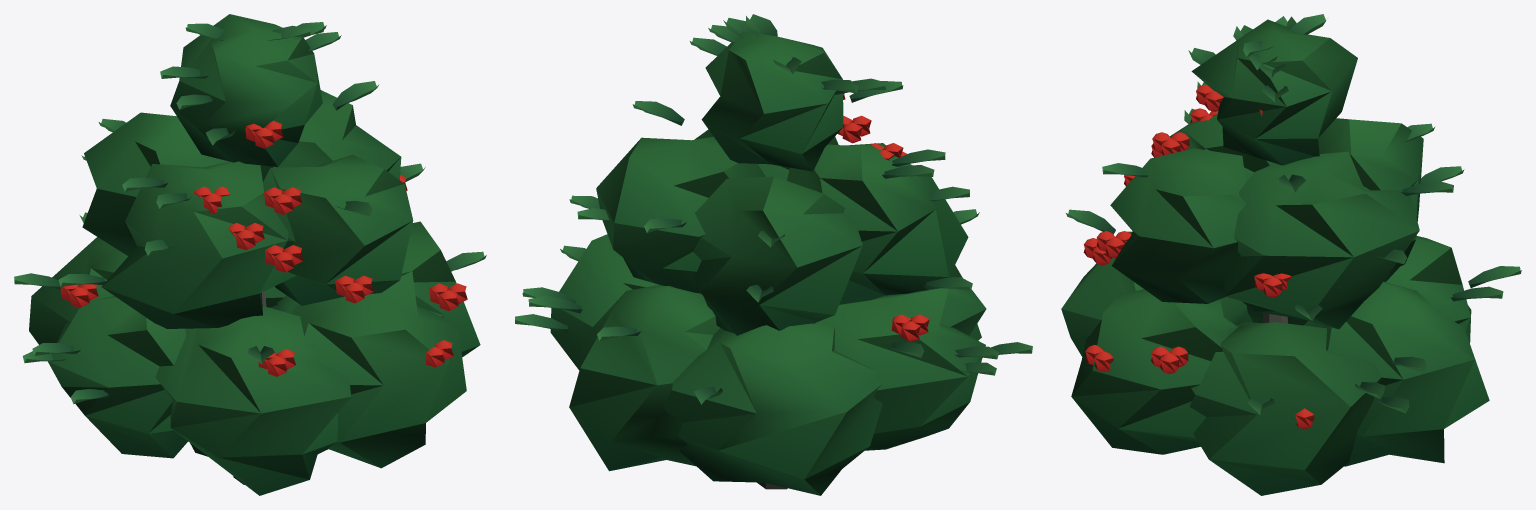
Rendered from holly.glb.
3 renders of one model, left to right at view 1: azimuth 30°, elevation 25°; view 2: azimuth 150°, elevation 25°; view 3: azimuth 270°, elevation 25°, orthographic.
Visible parts, largest first — view 1: holly; view 2: holly; view 3: holly.
Part boxes in pixels (x1,y1,x2,y2): holly: [14, 14, 486, 495]; holly: [515, 14, 1032, 495]; holly: [1061, 14, 1521, 495].
Bounding box in the file's own units: 0.9753 × 0.9314 × 0.8754.
